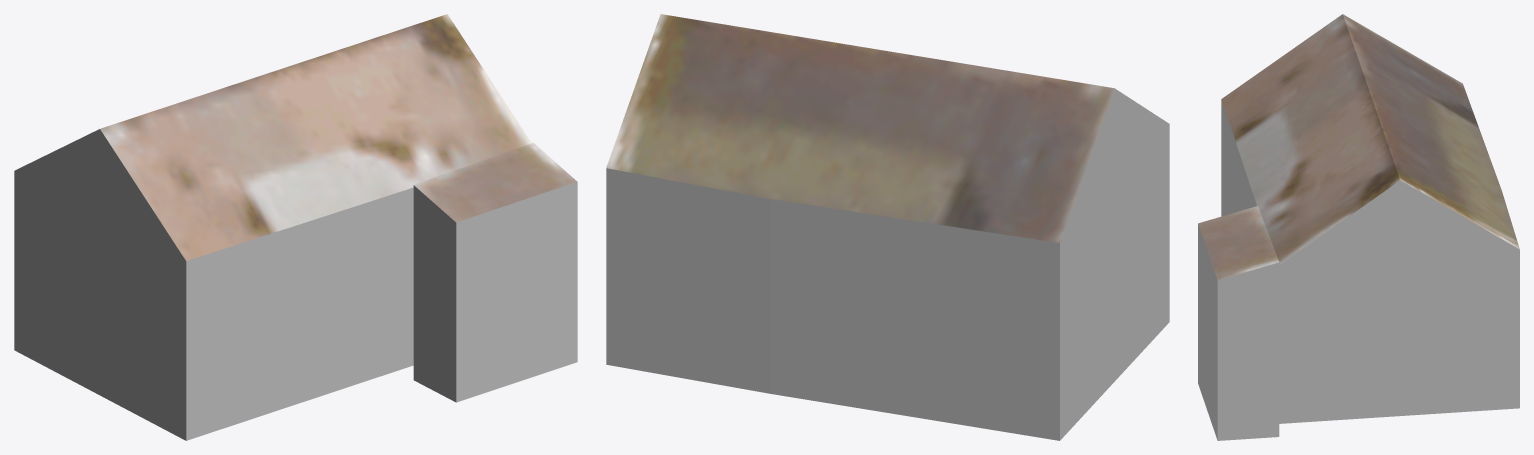
Rendered from DEBW_0010007Tx8S.gltf.
3 views of the same model, side by side, from view 1: azimuth 30°, elevation 25°; view 2: azimuth 150°, elevation 25°; view 3: azimuth 270°, elevation 25° (orthographic). The views are drawn at different scales.
Visible parts, largest first — view 1: Z_UP; view 2: Z_UP; view 3: Z_UP.
Boxes of the visible parts, x1,y1,x2,y2 form: Z_UP: (14, 14, 577, 440); Z_UP: (606, 14, 1169, 440); Z_UP: (1198, 14, 1519, 440).
Bounding box in the file's own units: 17.38 × 10.99 × 12.81.
Materials: 2 (1 with a texture image).
